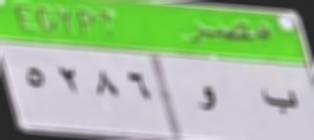2: (56, 59, 82, 97)
5: (21, 60, 46, 95)
6: (125, 70, 153, 105)
8: (92, 70, 122, 103)
baa: (258, 83, 303, 119)
waw: (190, 86, 222, 114)
